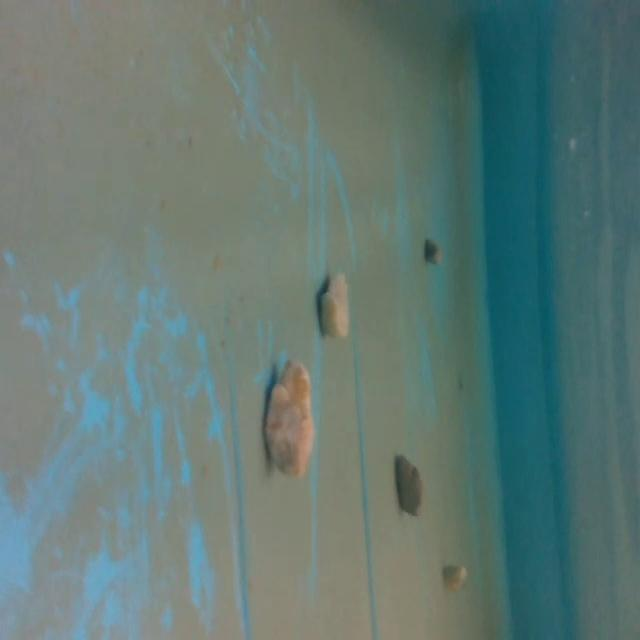rock: (260, 351, 321, 488), (316, 264, 353, 343), (387, 452, 430, 516), (440, 555, 470, 593), (420, 238, 442, 268)
